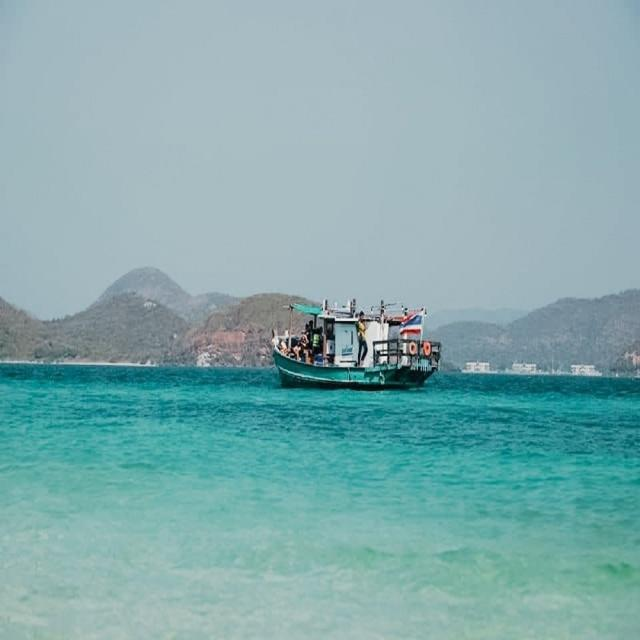fishing boat: (268, 294, 439, 387)
